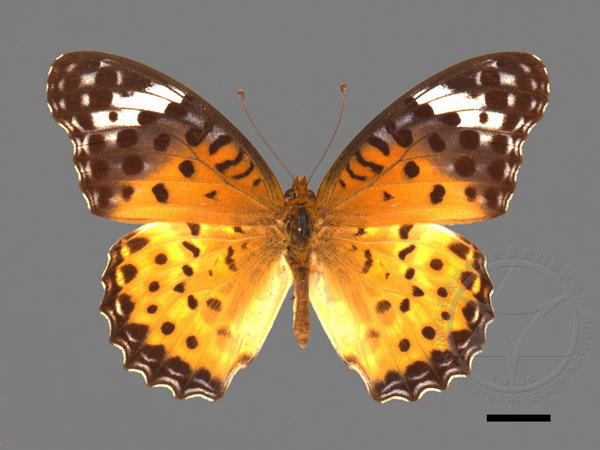Argyreus hyperbius: (39, 41, 557, 405)
butterfly: (41, 43, 559, 407)
